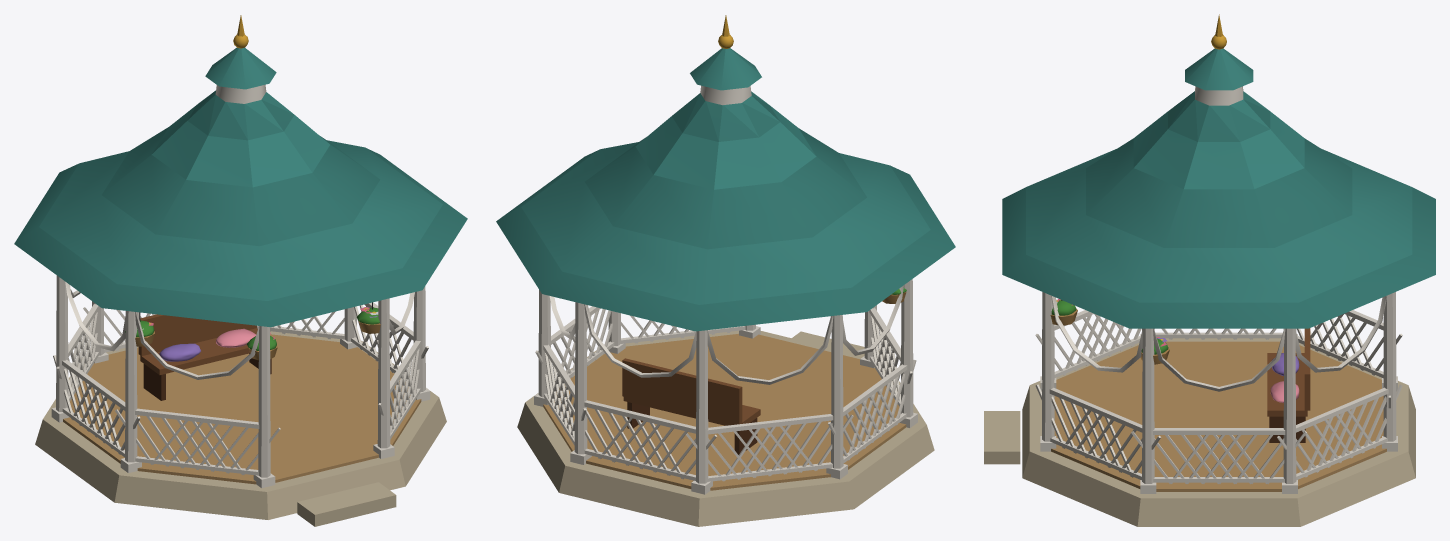
The model's file is gazebo.glb.
3 views of the same model, side by side, from view 1: azimuth 30°, elevation 25°; view 2: azimuth 150°, elevation 25°; view 3: azimuth 270°, elevation 25° (orthographic). The views are drawn at different scales.
Visible parts, largest first — view 1: decor-gazebo; view 2: decor-gazebo; view 3: decor-gazebo.
Part boxes in pixels (x1,y1,x2,y2): decor-gazebo: (14,15,467,526); decor-gazebo: (496,15,955,526); decor-gazebo: (984,14,1435,526).
Bounding box in the file's own units: 5.4 × 5.9 × 5.62.
